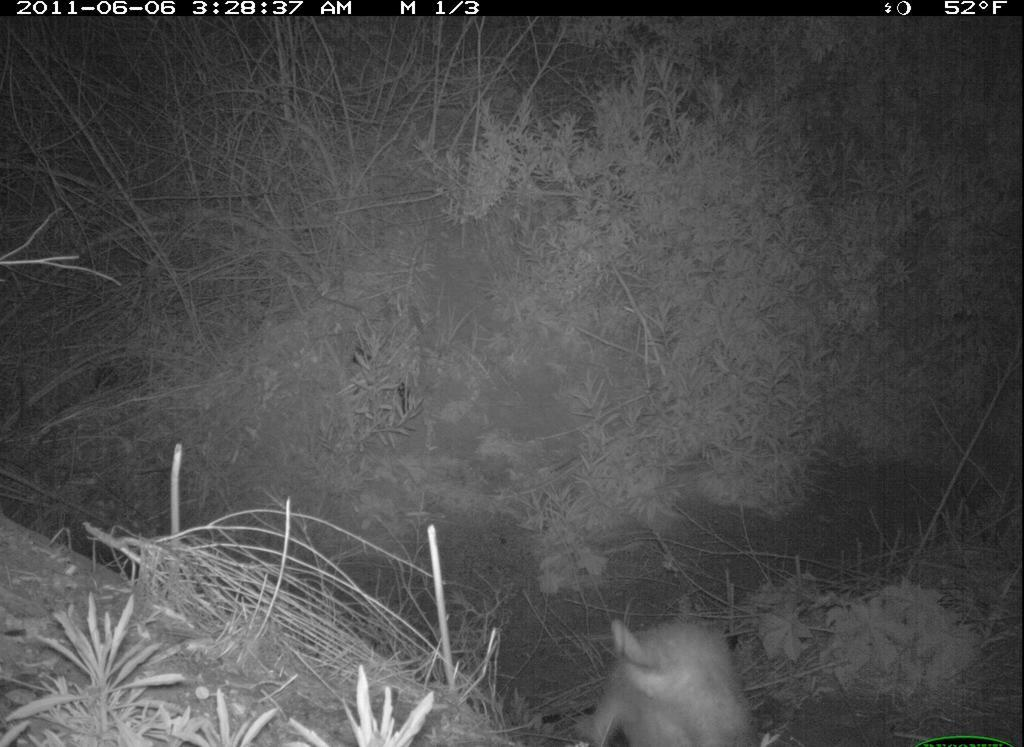opossum: (559, 605, 756, 744)
